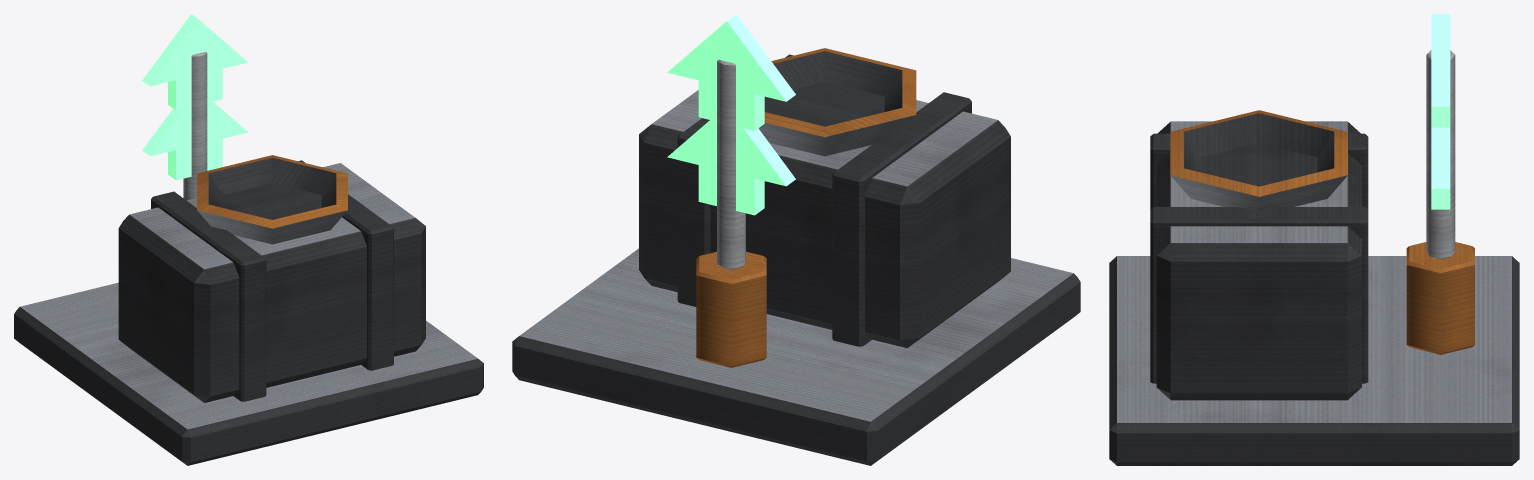
File: R4X_CargoUplink_LOD1.glb
3 views of the same model, side by side, from view 1: azimuth 30°, elevation 25°; view 2: azimuth 150°, elevation 25°; view 3: azimuth 270°, elevation 25° (orthographic). The views are drawn at different scales.
Visible parts, largest first — view 1: R4X_CargoUplink_LOD1; view 2: R4X_CargoUplink_LOD1; view 3: R4X_CargoUplink_LOD1.
Boxes of the visible parts, x1=… form: R4X_CargoUplink_LOD1: x1=14, y1=14, x2=483, y2=465; R4X_CargoUplink_LOD1: x1=512, y1=14, x2=1080, y2=465; R4X_CargoUplink_LOD1: x1=1109, y1=14, x2=1519, y2=465.
Size of the model in its own units: 0.52 by 0.515 by 0.52.
Materials: 5 (4 with a texture image).
